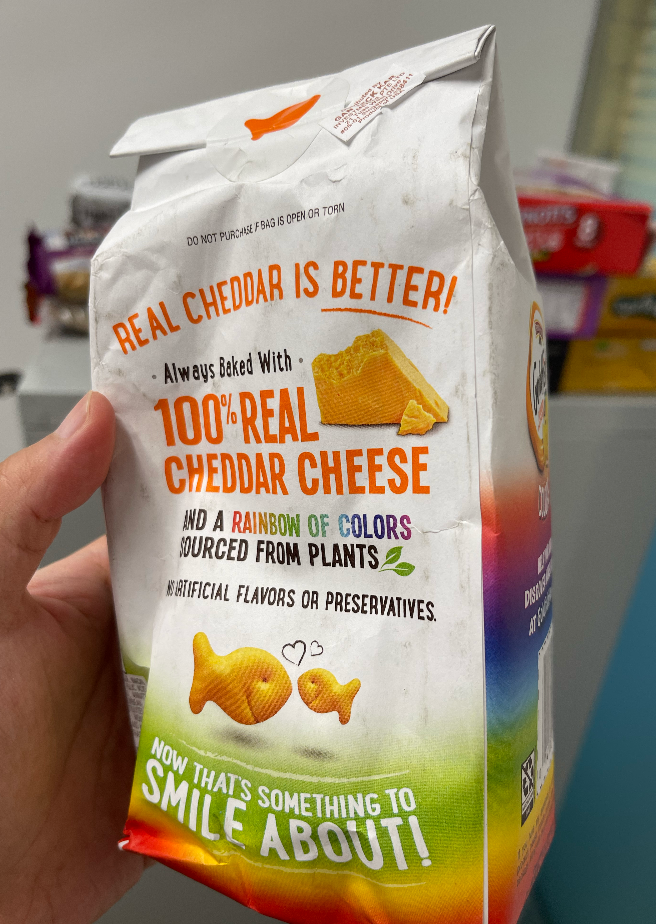crackers_100g-199g: (129, 188, 506, 883)
